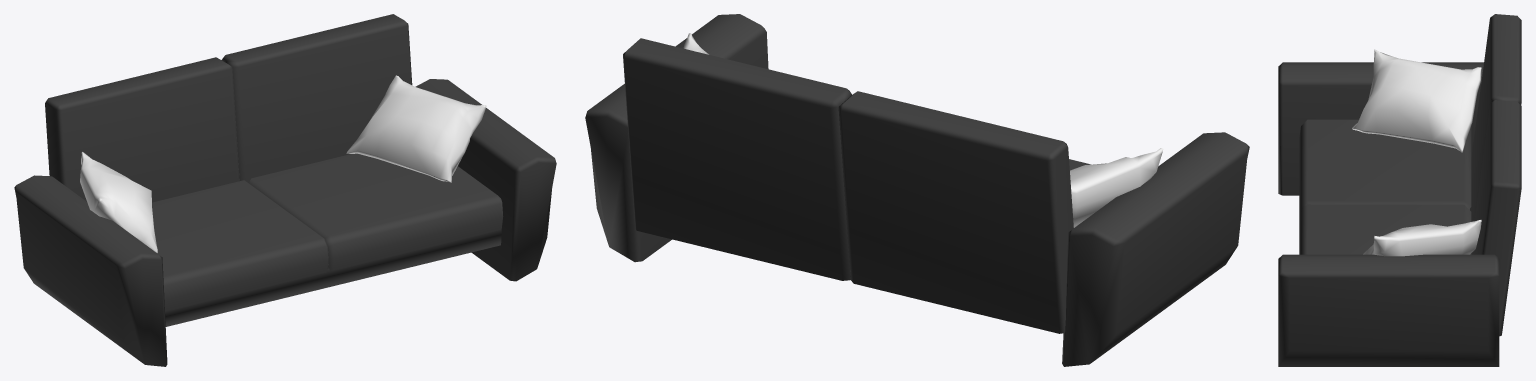
Rendered from sofa_028.glb.
3 renders of one model, left to right at view 1: azimuth 30°, elevation 25°; view 2: azimuth 150°, elevation 25°; view 3: azimuth 270°, elevation 25°, orthographic. The views are drawn at different scales.
Parts seen in each view (by area): view 1: sofa_028; view 2: sofa_028; view 3: sofa_028.
Boxes of the visible parts, <box> form: sofa_028: <box>14,14,556,366</box>; sofa_028: <box>585,14,1249,366</box>; sofa_028: <box>1278,14,1521,366</box>.
Size of the model in its own units: 1.97 by 0.7789 by 0.9491.
1 material, 1 textured.
